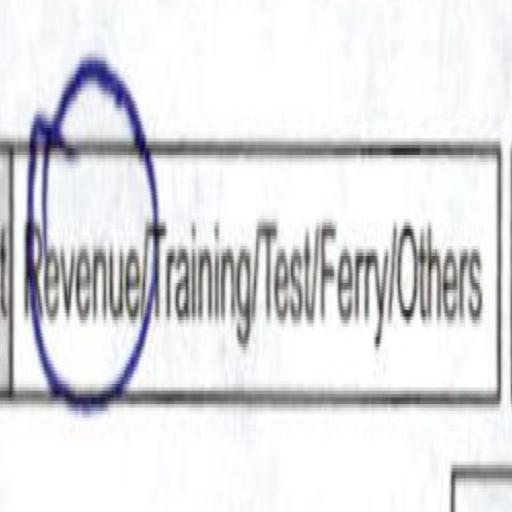check: (20, 58, 153, 507)
